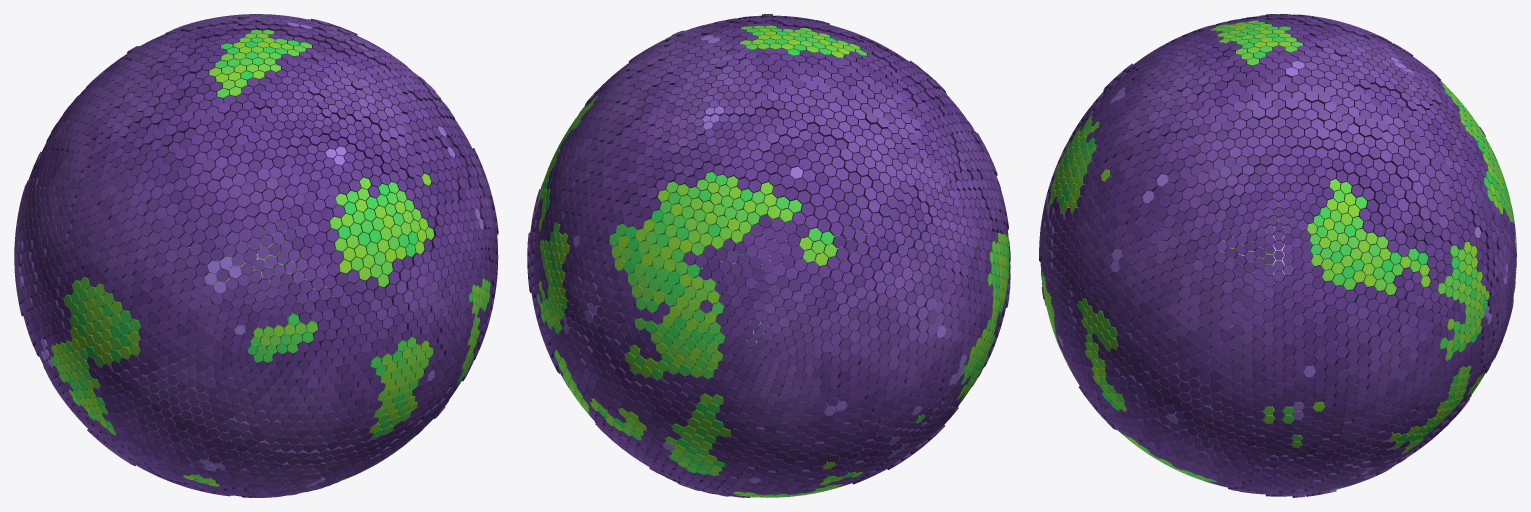
Rendered from toxic_1.glb.
The picture shows the model from 3 angles, left to right: view 1: azimuth 30°, elevation 25°; view 2: azimuth 150°, elevation 25°; view 3: azimuth 270°, elevation 25°; orthographic projection.
Visible parts, largest first — view 1: toxic_1; view 2: toxic_1; view 3: toxic_1.
Part boxes in pixels (box(x1,y1,x2,y2)): toxic_1: box(14, 14, 498, 497); toxic_1: box(527, 14, 1010, 497); toxic_1: box(1039, 14, 1516, 497).
Size of the model in its own units: 2.02 by 2.02 by 2.01.
